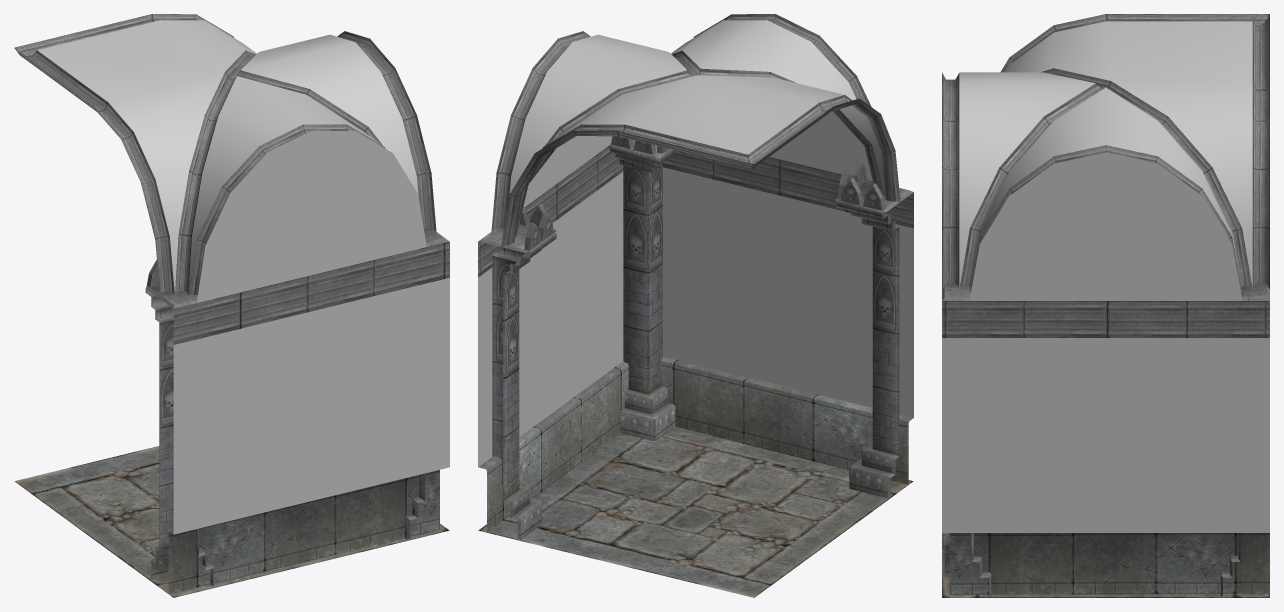
The model's file is Inner_corner.FBX.
3 renders of one model, left to right at view 1: azimuth 30°, elevation 25°; view 2: azimuth 150°, elevation 25°; view 3: azimuth 270°, elevation 25°, orthographic. The views are drawn at different scales.
Parts seen in each view (by area): view 1: Inside Corner; view 2: Inside Corner; view 3: Inside Corner.
Part boxes in pixels (box(x1,y1,x2,y2)): Inside Corner: box(14, 14, 449, 597); Inside Corner: box(478, 14, 913, 597); Inside Corner: box(942, 14, 1269, 597).
Bounding box in the file's own units: 500 × 750 × 500.
